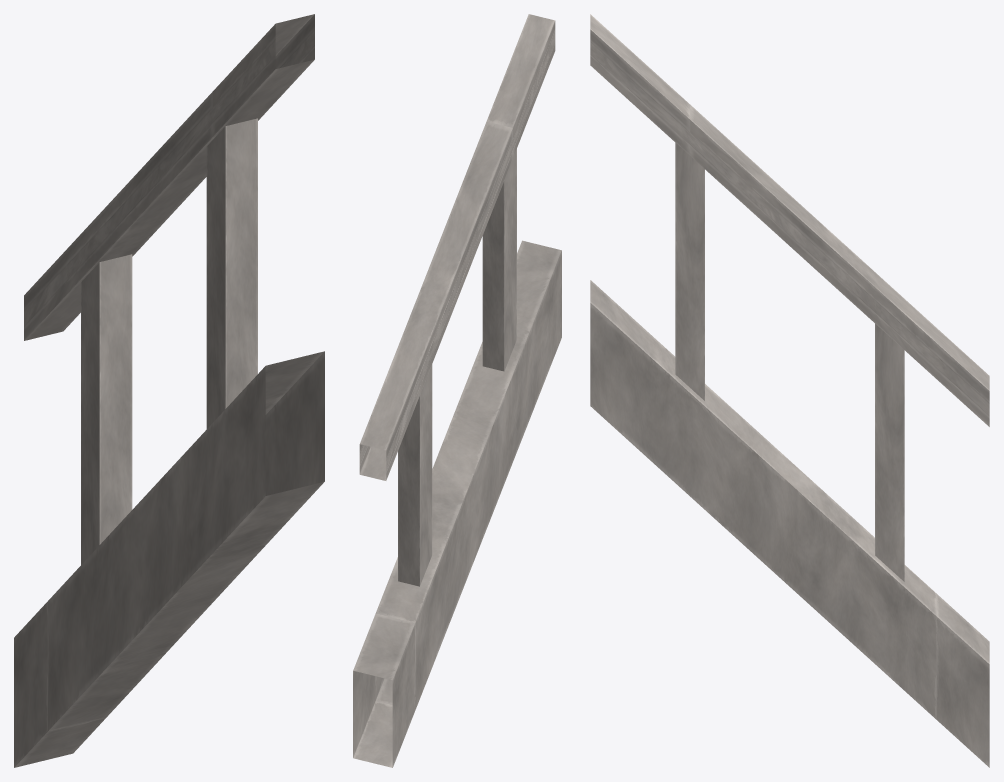
File: Stair_2h_Rail.fbx
3 renders of one model, left to right at view 1: azimuth 30°, elevation 25°; view 2: azimuth 150°, elevation 25°; view 3: azimuth 270°, elevation 25°, orthographic. The views are drawn at different scales.
Visible parts, largest first — view 1: Stair_2h_Rail; view 2: Stair_2h_Rail; view 3: Stair_2h_Rail.
Part boxes in pixels (x1,y1,x2,y2): Stair_2h_Rail: [14, 14, 324, 767]; Stair_2h_Rail: [353, 14, 561, 767]; Stair_2h_Rail: [590, 14, 989, 767].
Size of the model in its own units: 0.2712 by 2 by 4.06.
